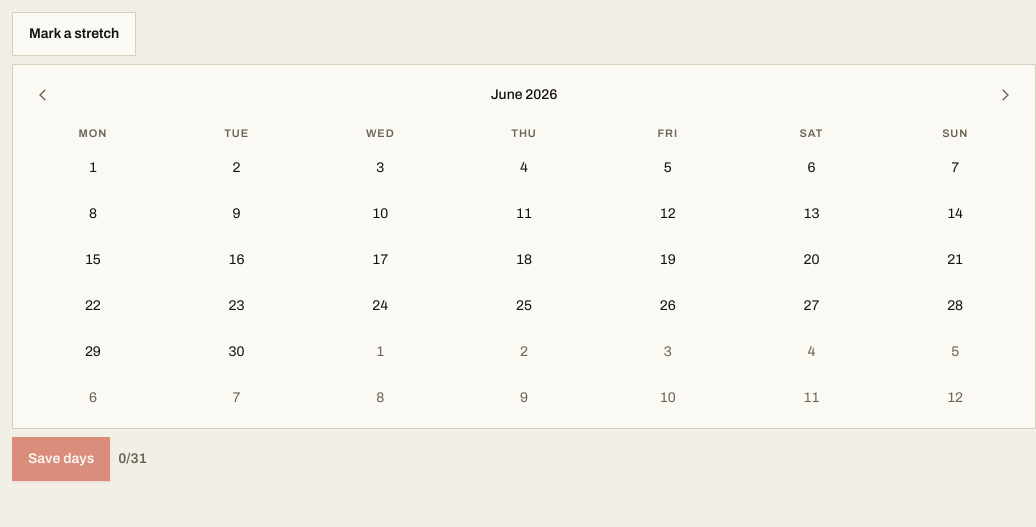
Test: DayOptionsCalendar › refuses a stretch longer than 31 days
Click the button "Mark a stretch".
click(74, 34)  # box [12,12,136,56]
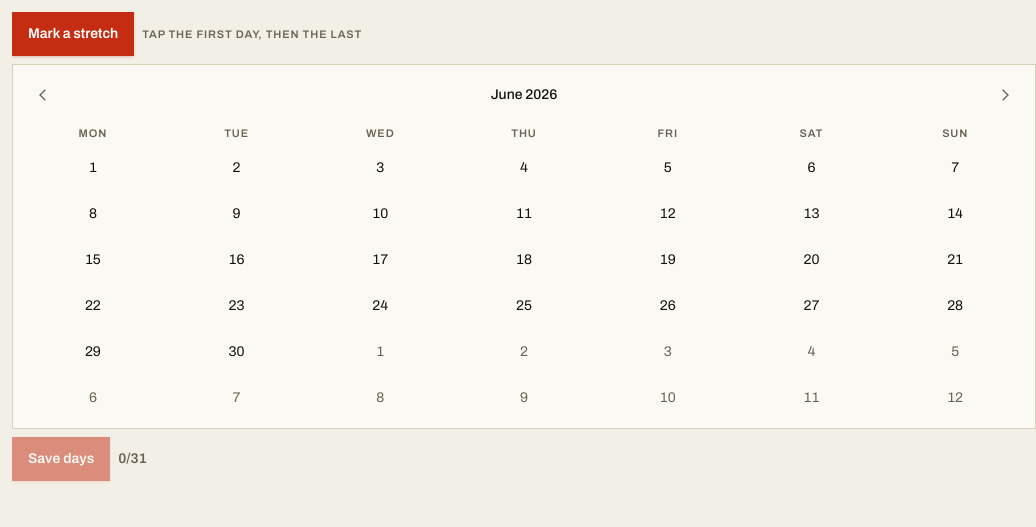
Click the 1st button "1".
click(93, 168)  # box [21,146,165,190]
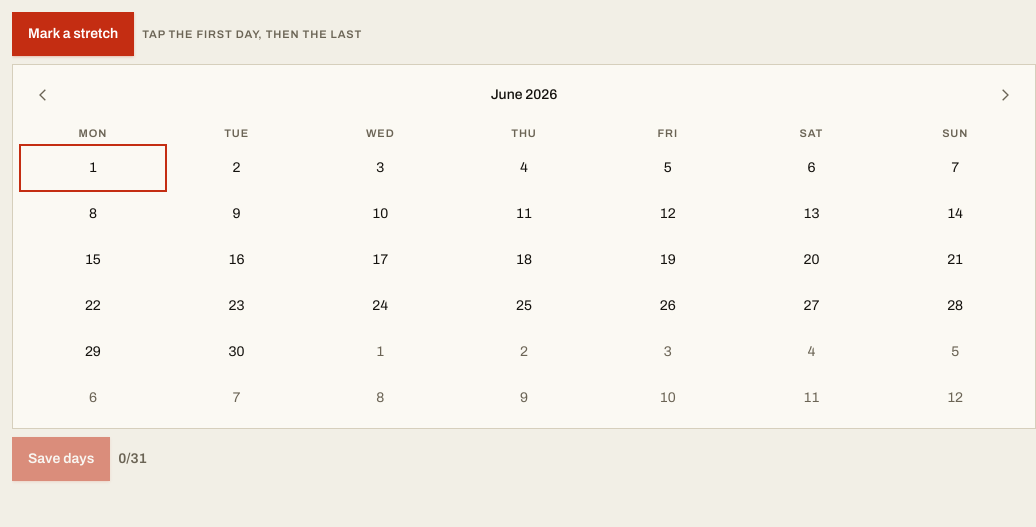
Click the button named "Next month".
click(1005, 95)  # box [983,73,1027,117]
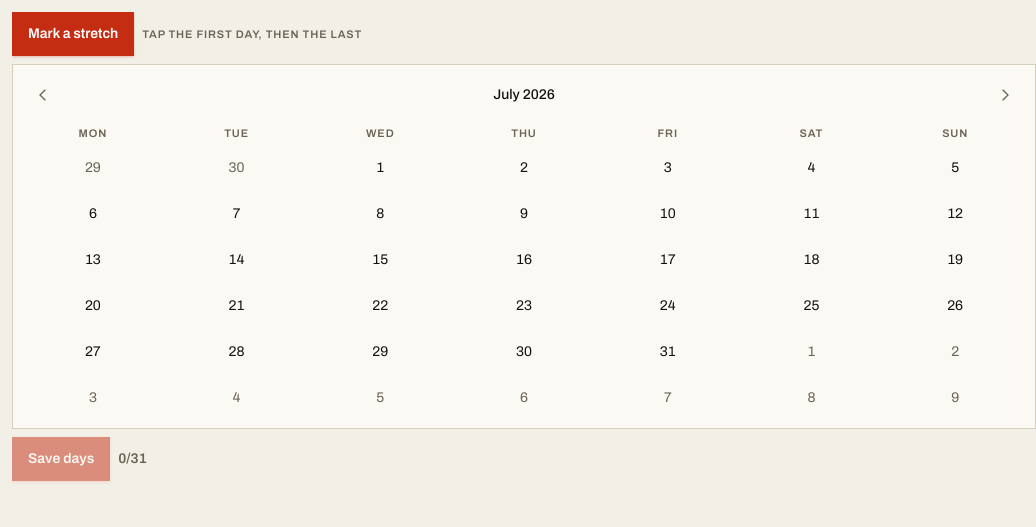
Click the 1st button "2".
click(524, 168)  # box [452,146,596,190]
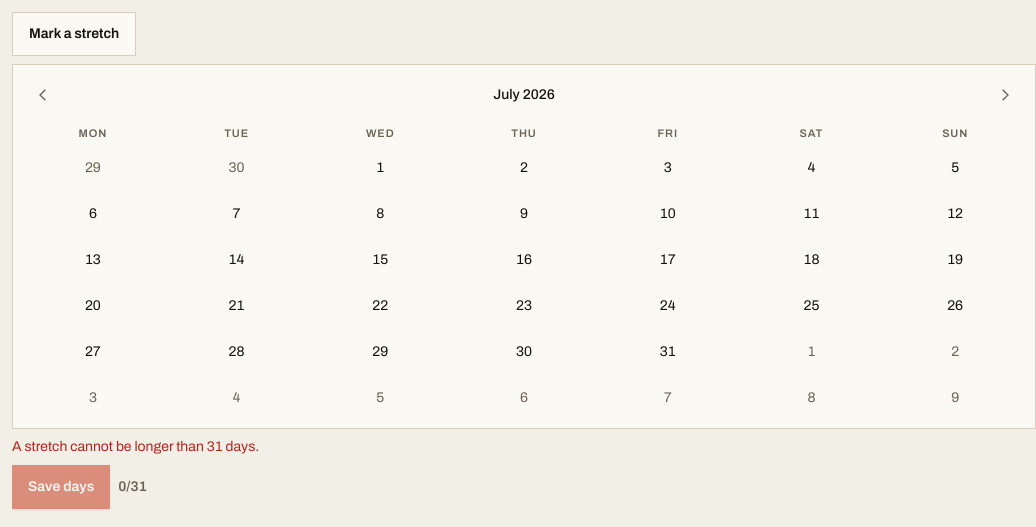
expect the text "A stretch cannot be longer than 31 days." is shown: met, box [12,438,259,454]
